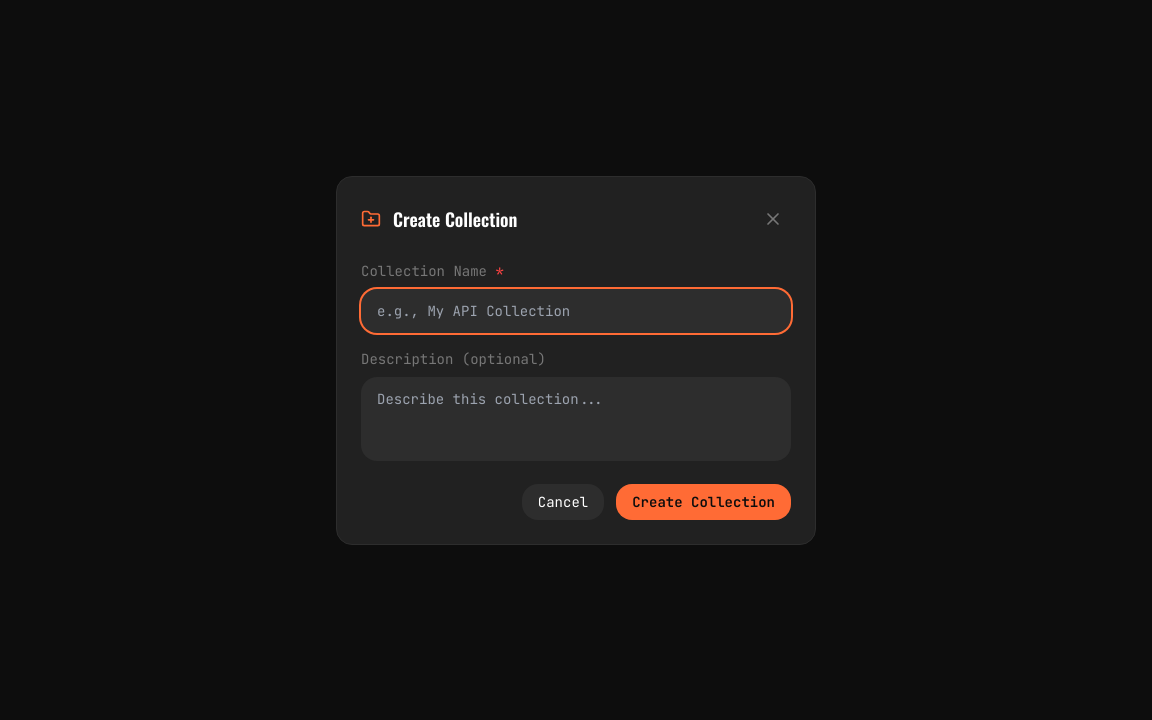
CreateCollectionModal › handles string errors
The image size is (1152, 720).
Type "Test" into the field with placeholder "e.g., My API Collection". click: (576, 310)
box: x1=361 y1=288 x2=791 y2=332
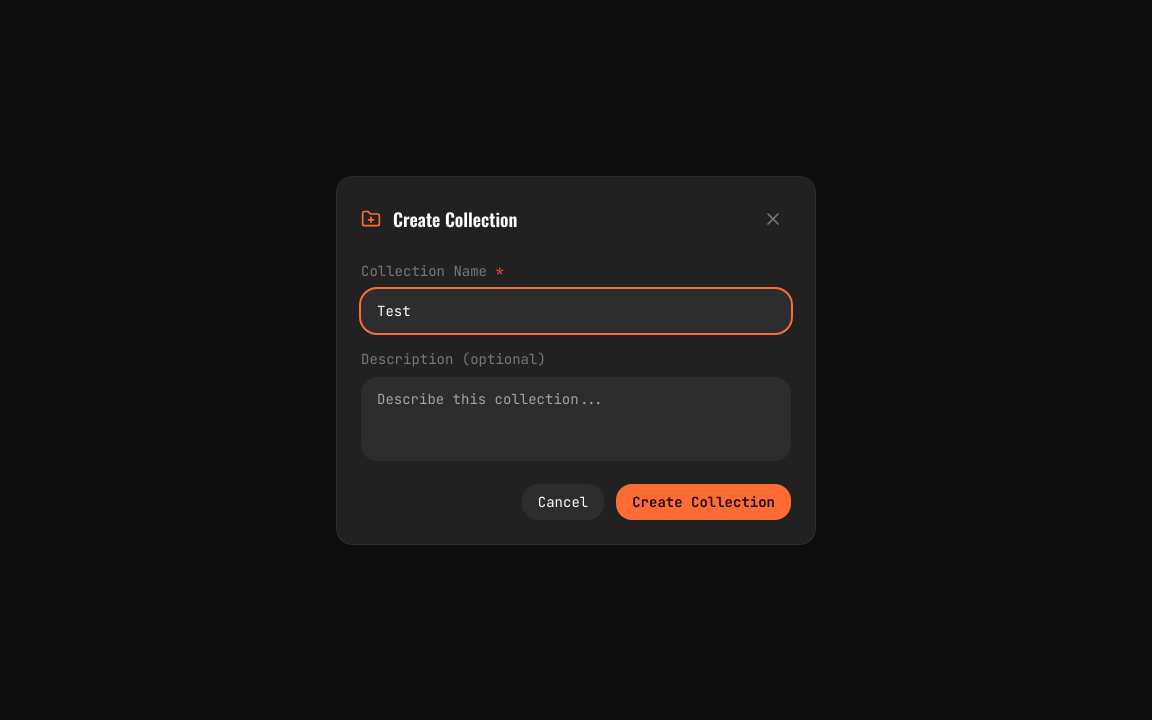
Click the button "Create Collection". click: (704, 502)
box: x1=616 y1=484 x2=791 y2=520
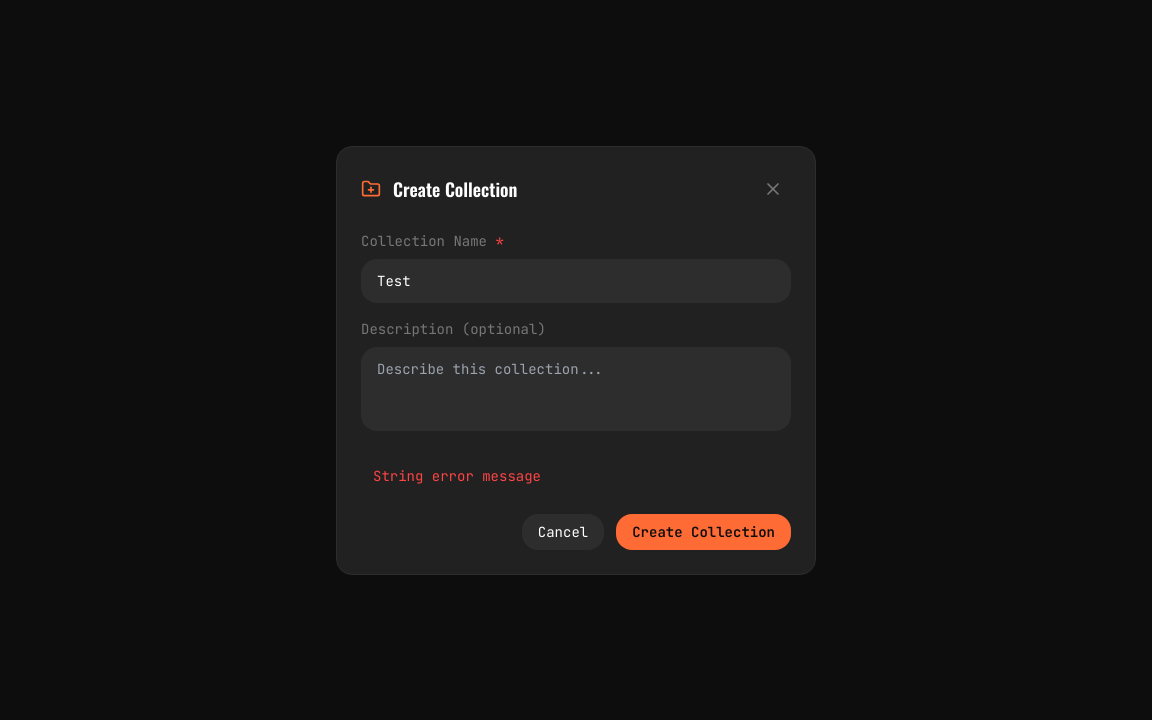
Expected: the text "String error message" is shown, x1=373 y1=466 x2=541 y2=484
